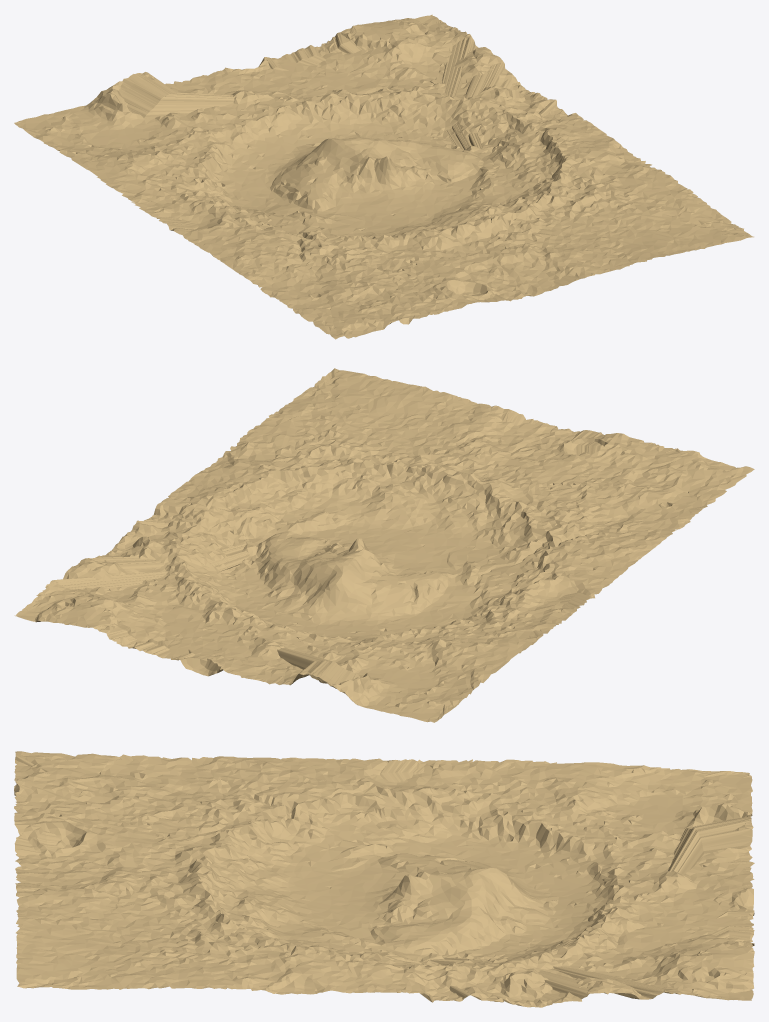
The model's file is gale_crater.dae.
3 views of the same model, one above another, from view 1: azimuth 30°, elevation 25°; view 2: azimuth 150°, elevation 25°; view 3: azimuth 270°, elevation 25° (orthographic). The views are drawn at different scales.
Visible parts, largest first — view 1: gale_crater13k; view 2: gale_crater13k; view 3: gale_crater13k.
Boxes of the visible parts, x1,y1,x2,y2 form: gale_crater13k: (14,14,753,339); gale_crater13k: (14,368,754,722); gale_crater13k: (14,751,754,1007).
Bounding box in the file's own units: 37.64 × 49.67 × 3.62.
